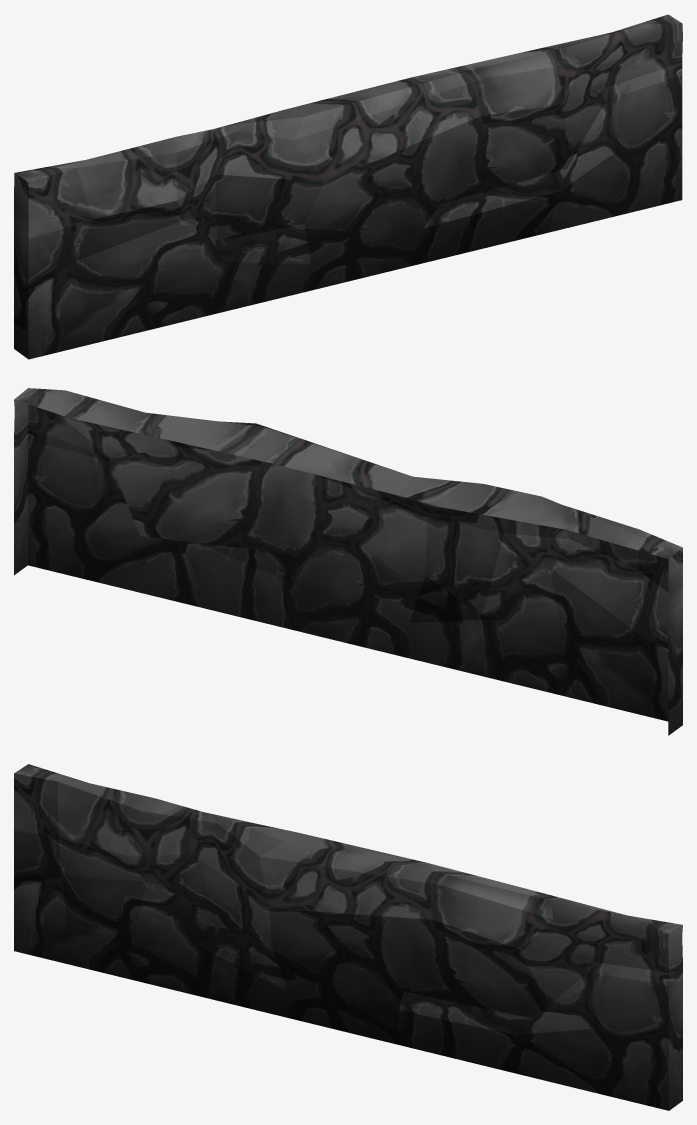
The model's file is fanasty_mod_edge_stone_wall01.fbx.
The picture shows the model from 3 angles, top to bottom: view 1: azimuth 30°, elevation 25°; view 2: azimuth 150°, elevation 25°; view 3: azimuth 330°, elevation 25°; orthographic projection.
Parts seen in each view (by area): view 1: edge_stone_wall_01; view 2: edge_stone_wall_01; view 3: edge_stone_wall_01.
Boxes of the visible parts, x1,y1,x2,y2 form: edge_stone_wall_01: [14, 14, 682, 359]; edge_stone_wall_01: [14, 388, 682, 735]; edge_stone_wall_01: [14, 764, 682, 1110].
Size of the model in its own units: 8 by 2.23 by 0.748.
